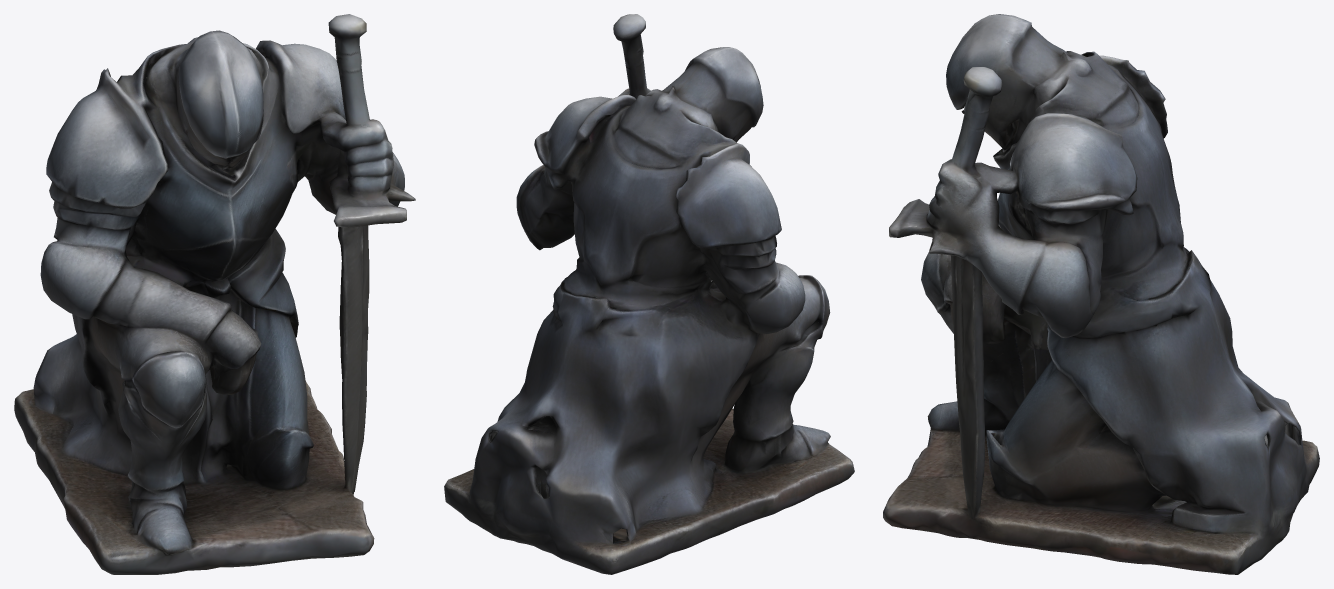
Rendered from guardian_statue_kneeling.glb.
3 views of the same model, side by side, from view 1: azimuth 30°, elevation 25°; view 2: azimuth 150°, elevation 25°; view 3: azimuth 270°, elevation 25° (orthographic). The views are drawn at different scales.
Bounding box in the file's own units: 1.43 × 2 × 1.68.
1 material, 1 textured.
